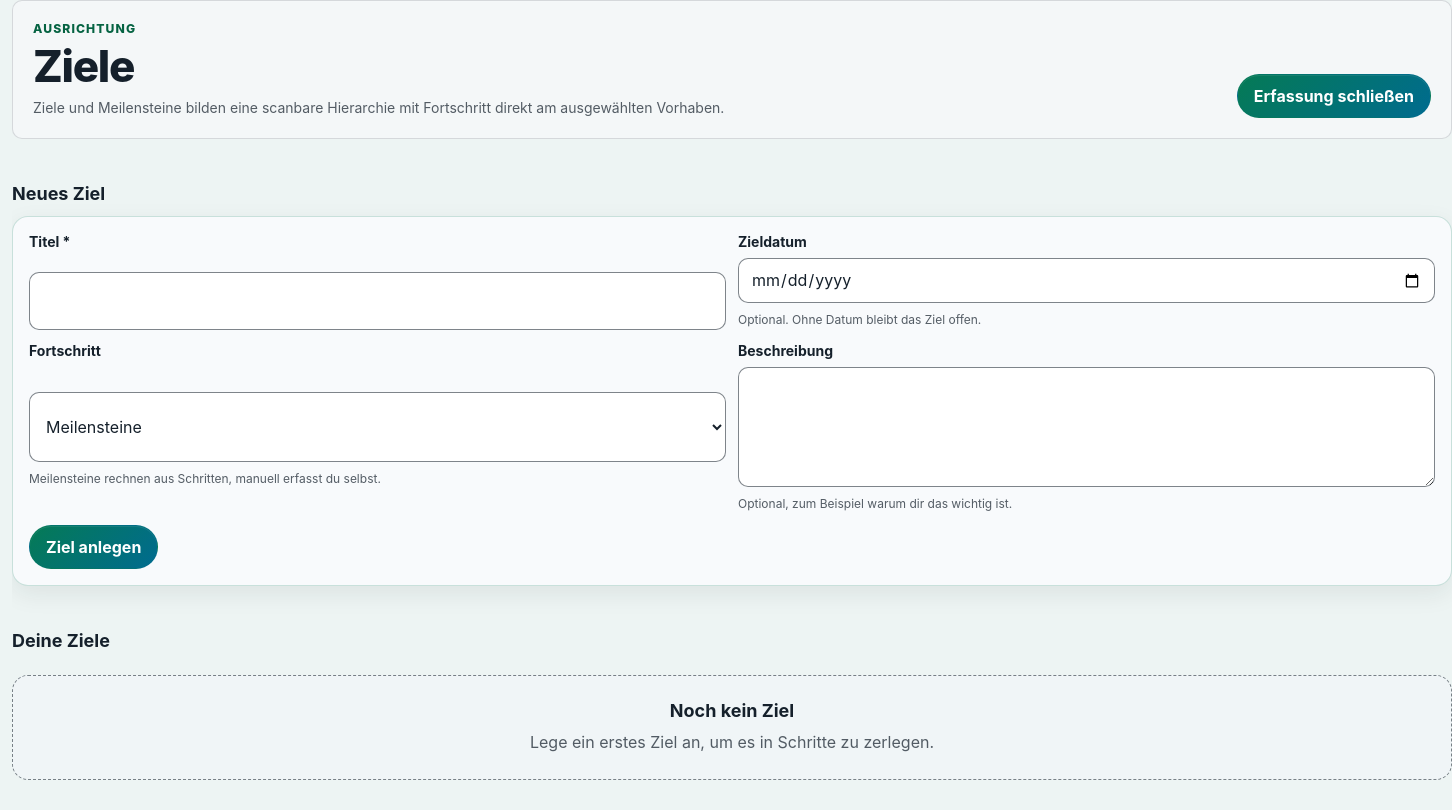
Test: GoalsPage › refuses an empty title with a correction hint
Expected: the heading "Noch kein Ziel" is shown, top-left (670, 700), bottom-right (794, 722)
Click the button "Ziel anlegen".
click(94, 548)  # box top-left (29, 526), bottom-right (158, 570)
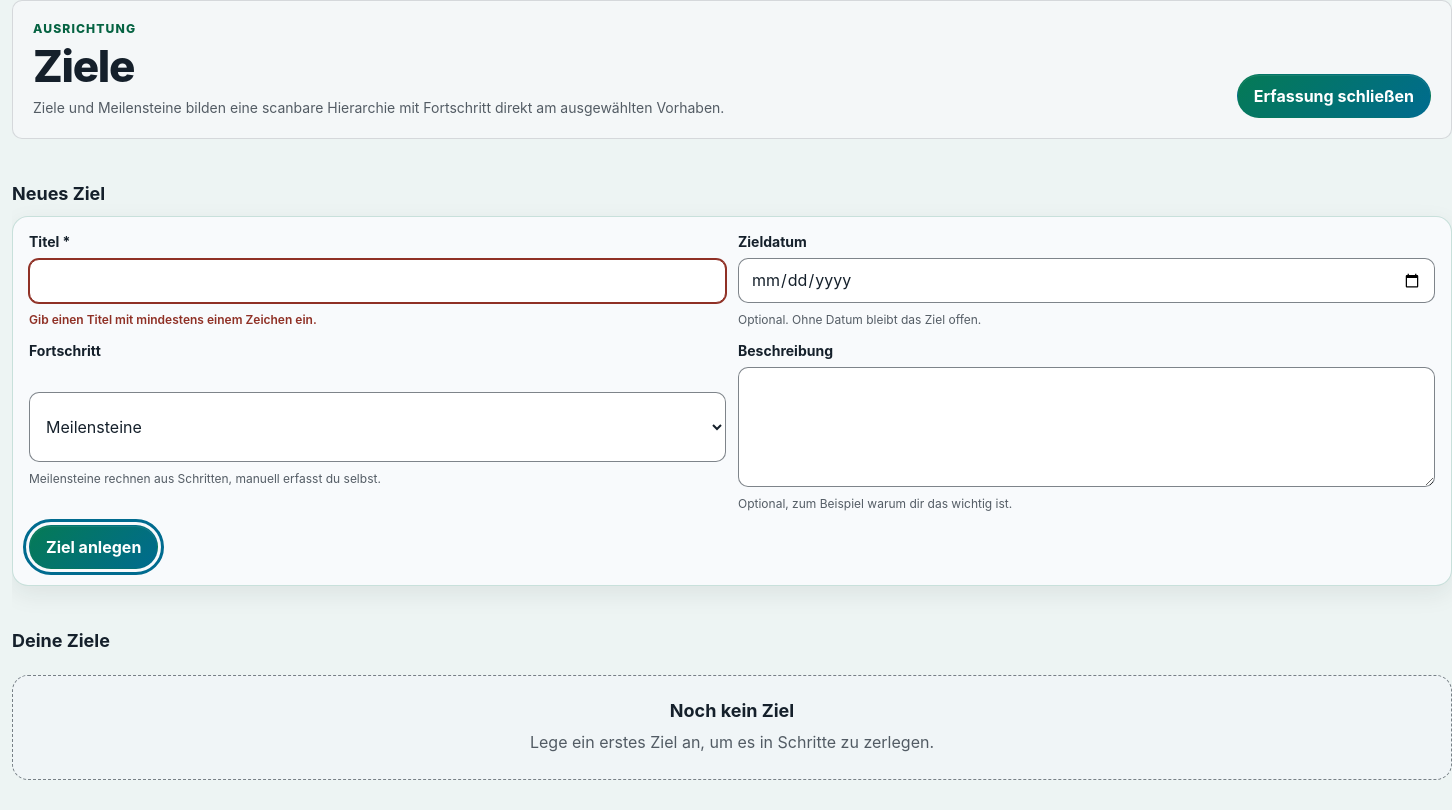
Expected: the heading "Noch kein Ziel" is shown, top-left (670, 700), bottom-right (794, 722)
Now the text "Gib einen Titel mit mindestens einem Zeichen ein." is shown, box top-left (29, 312), bottom-right (317, 327)
